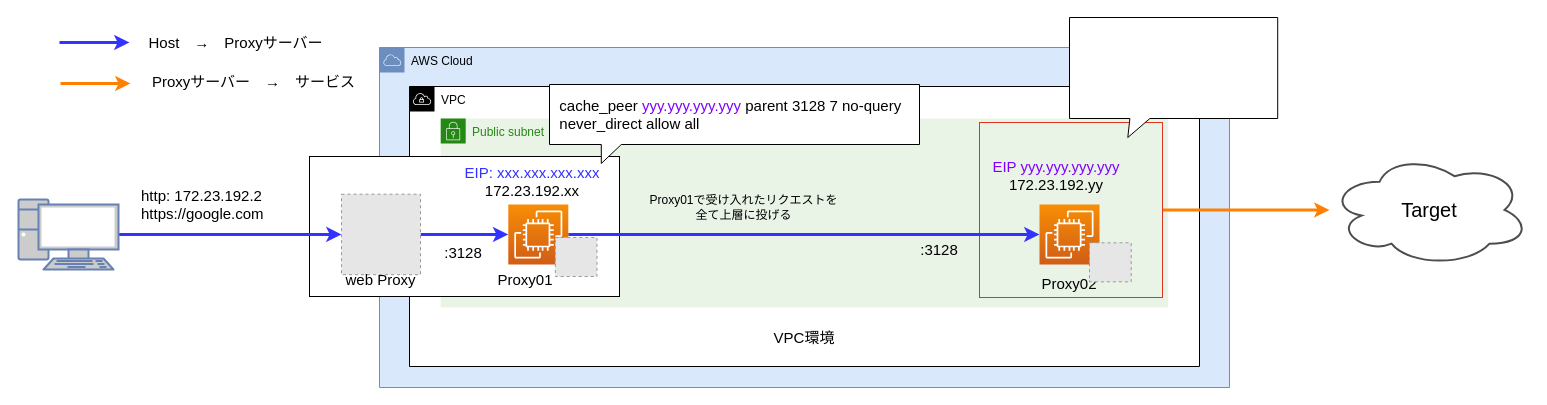
Image size: 1547x405. Some labels were removed from this diagram. Grey dashed boxes stand in for pictures. The box of each missing label's shape, as (x1, y1, x2, y2) in pixels:
INBOUND: FROM: xxx.xxx.xxx.xxx EIP（ yyy.yyy.yyy.yyy ） で受けるために必要: (1068, 16, 1278, 138)
Security group: (978, 122, 1162, 298)
